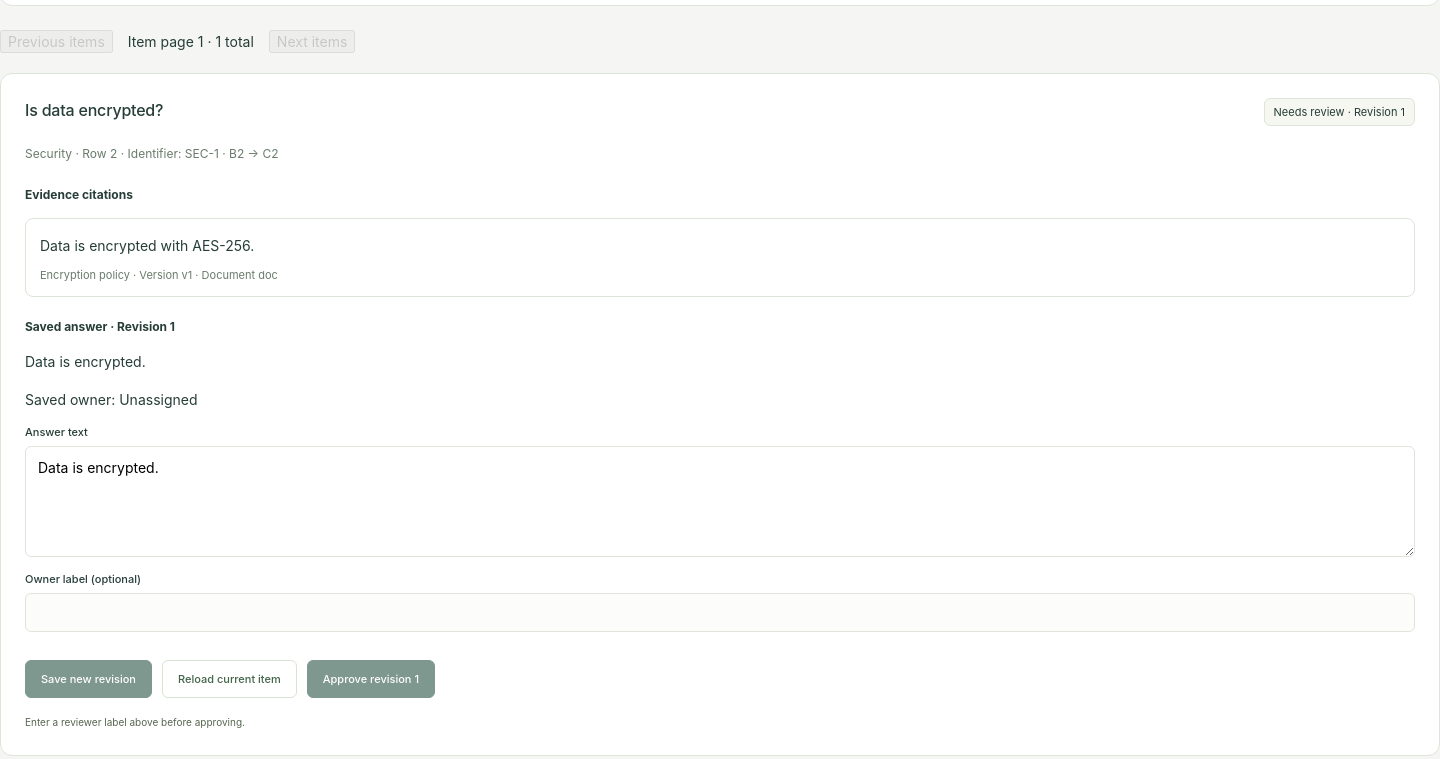
Test case: retains local text on conflict; reload and explicit rebase are required before saving against a new revision
(page scrolled)
Expected: the heading "Is data encrypted?" is shown, [25,98,163,123]
Replace the text in the text box labelled "Answer text" with "My unsaved text" at [720, 502], box [25,446,1415,557]
(page scrolled)
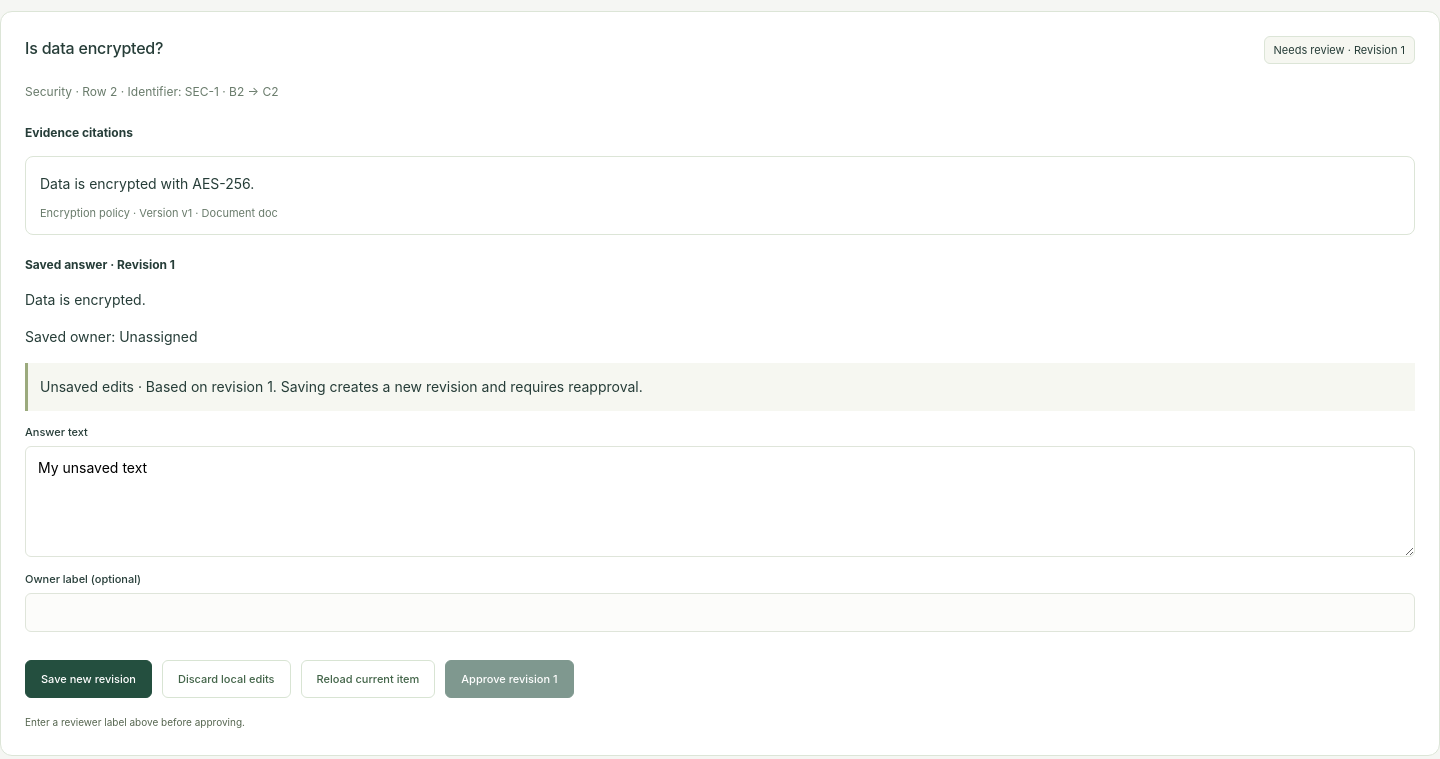
Click the button "Save new revision" at [88, 679], box [25,660,152,698]
(page scrolled)
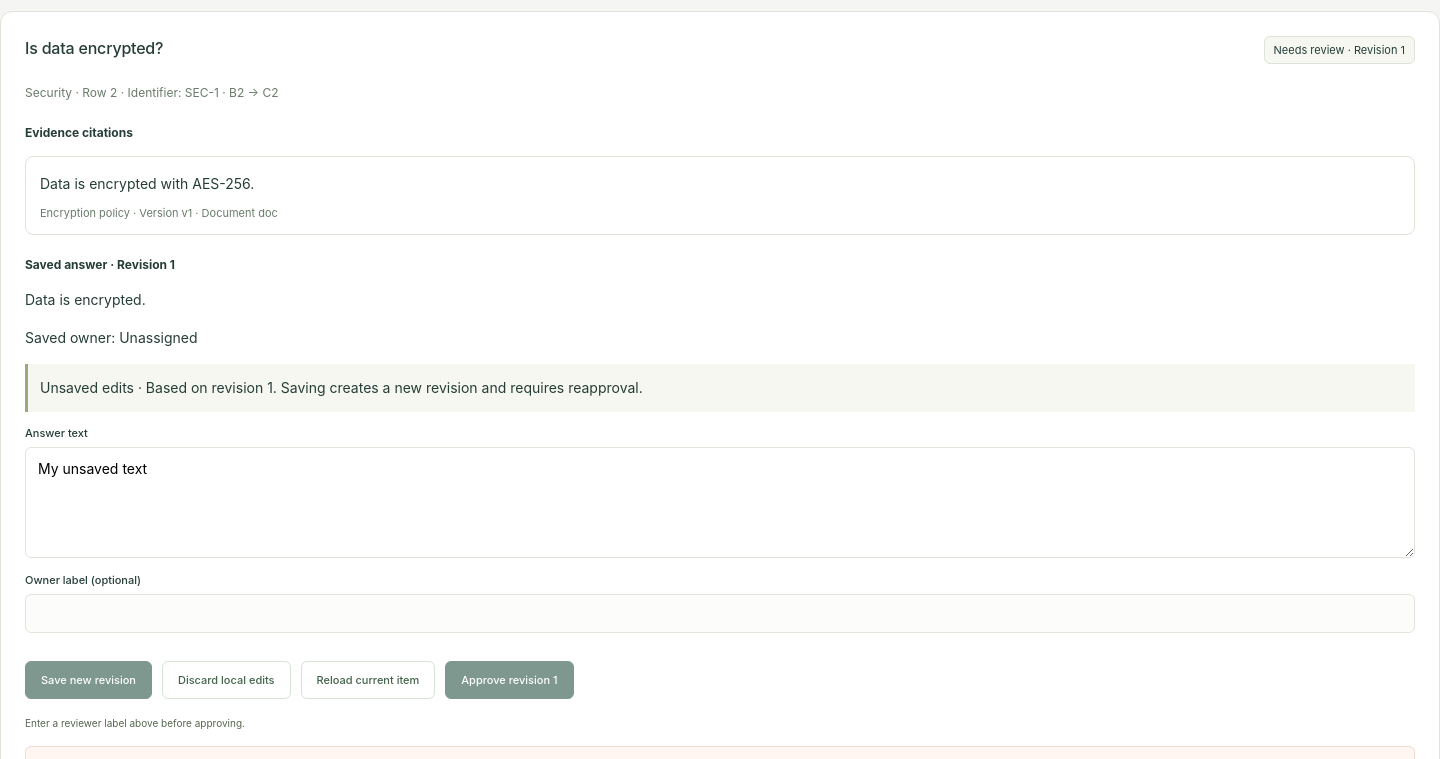
Click the button "Reload current item" at [368, 680], box [300,661,435,699]
(page scrolled)
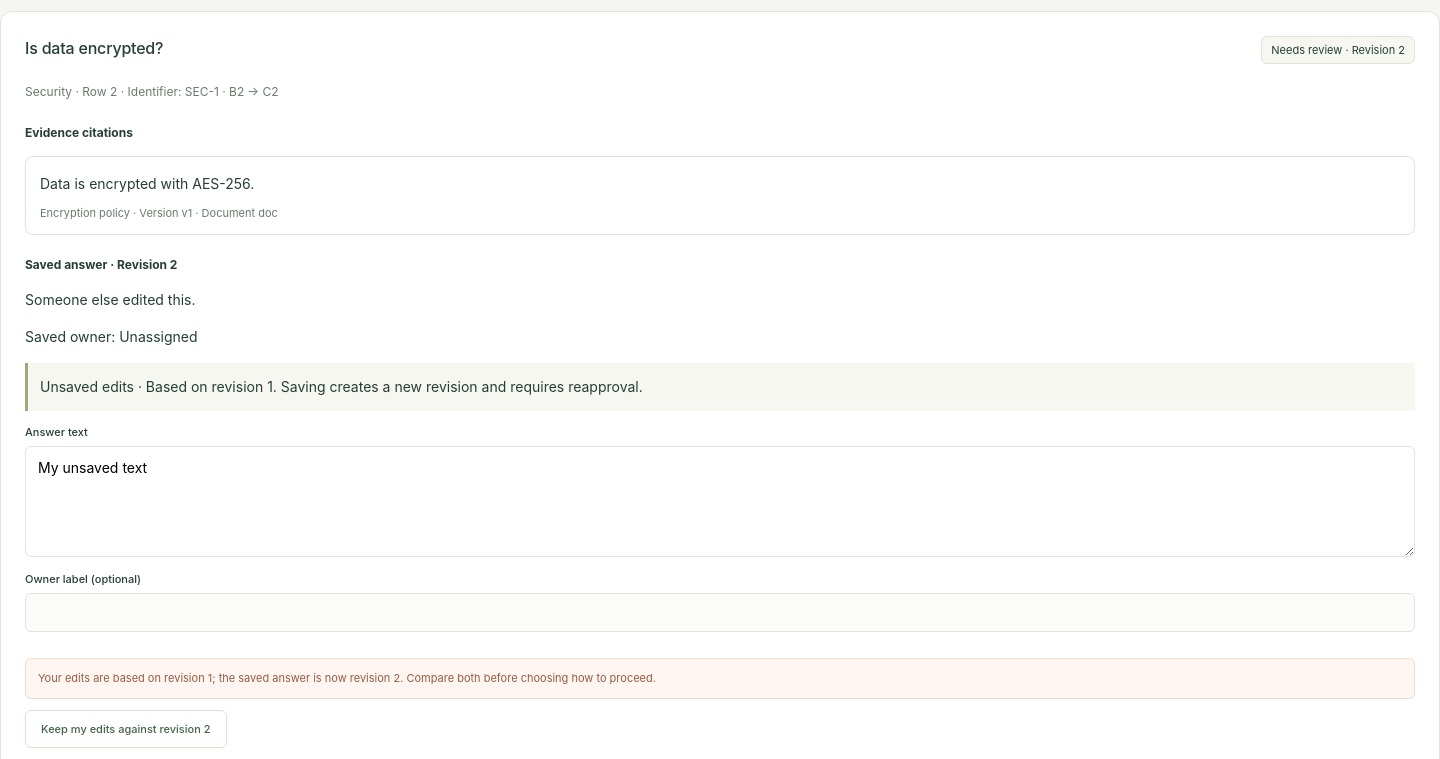
Now the text "Someone else edited this." is shown, box [25,291,196,308]
Click the button "Keep my edits against revision 2" at [126, 729], box [25,710,226,748]
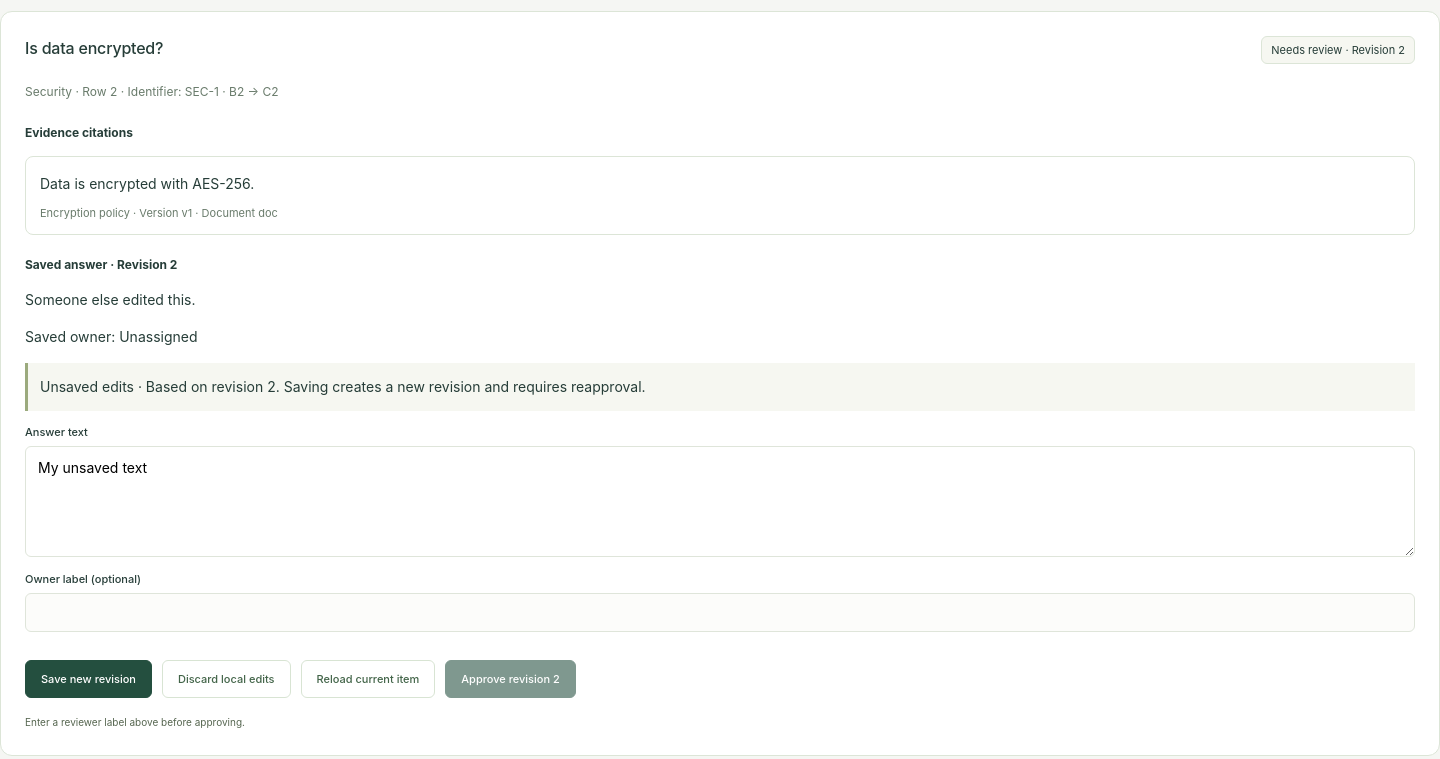
Click the button "Save new revision" at [88, 679], box [25,660,152,698]
(page scrolled)
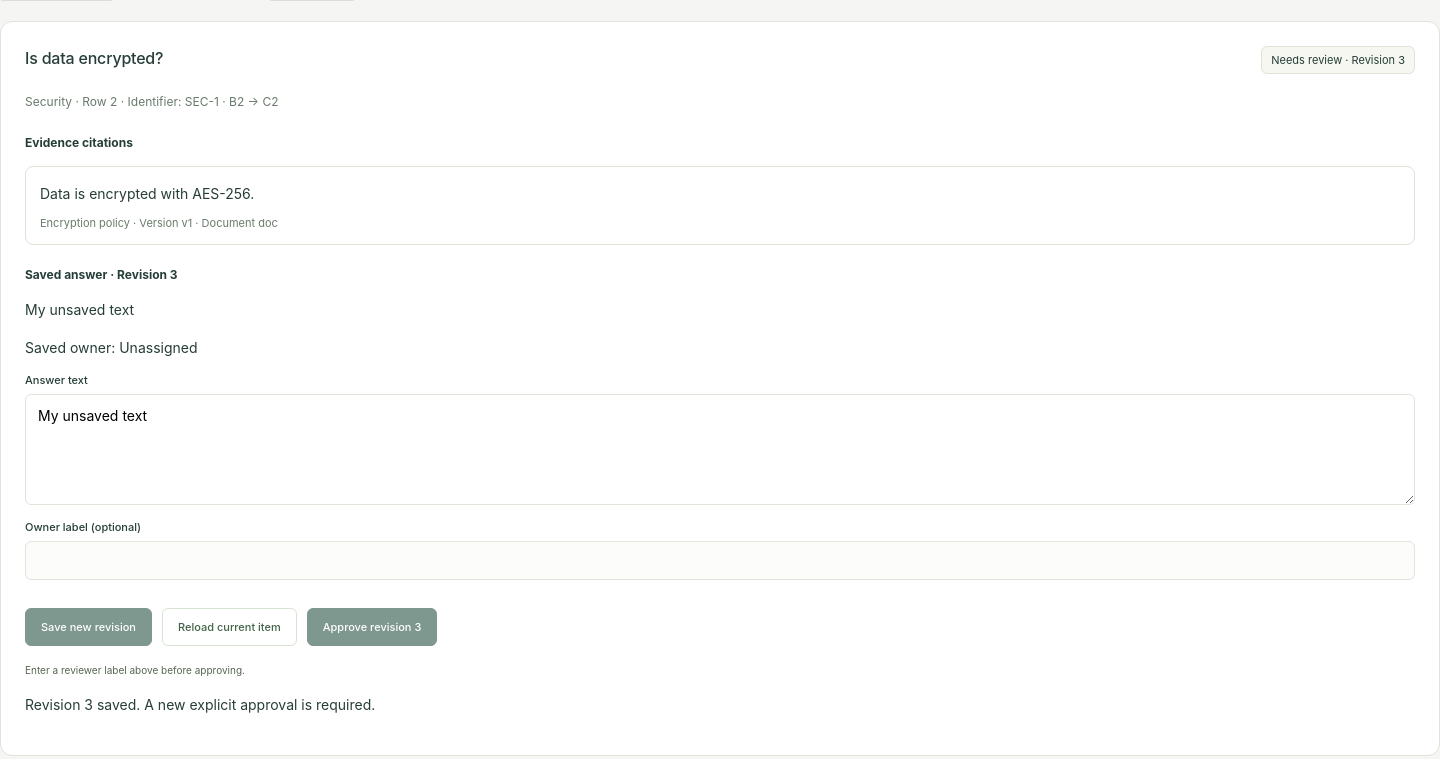
Now the text "Revision 3 saved. A new explicit approval is required." is shown, box [25,696,375,713]
